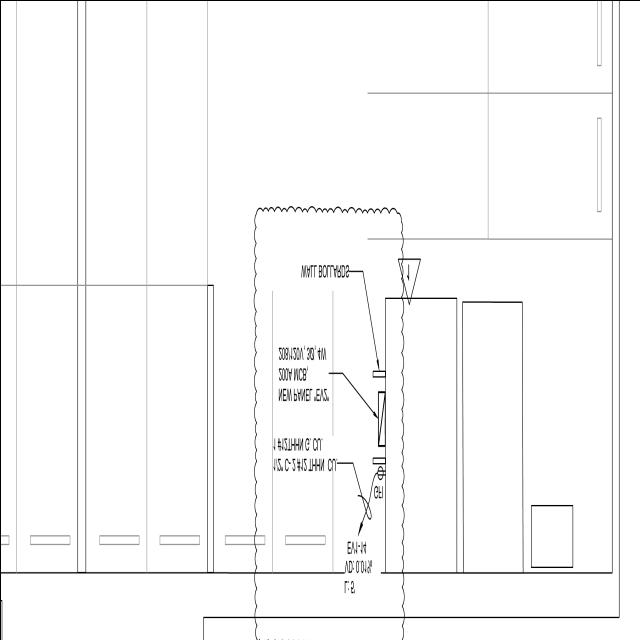gfi: (375, 465, 385, 481)
panel: (374, 376, 389, 449)
